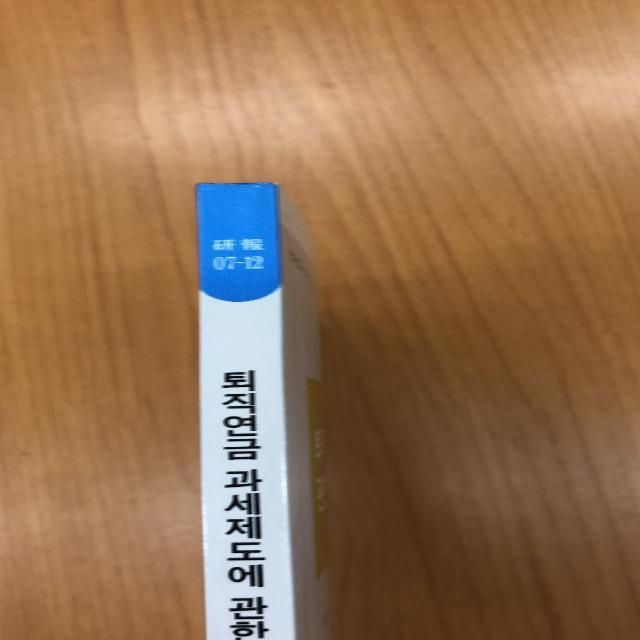Wornout: (193, 180, 283, 193)
